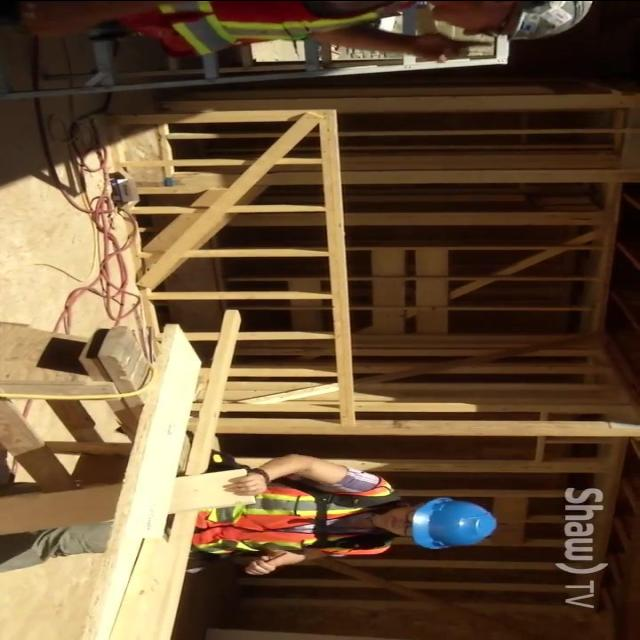helmet: (406, 493, 502, 555)
jacket: (186, 467, 399, 562), (120, 0, 414, 54)
